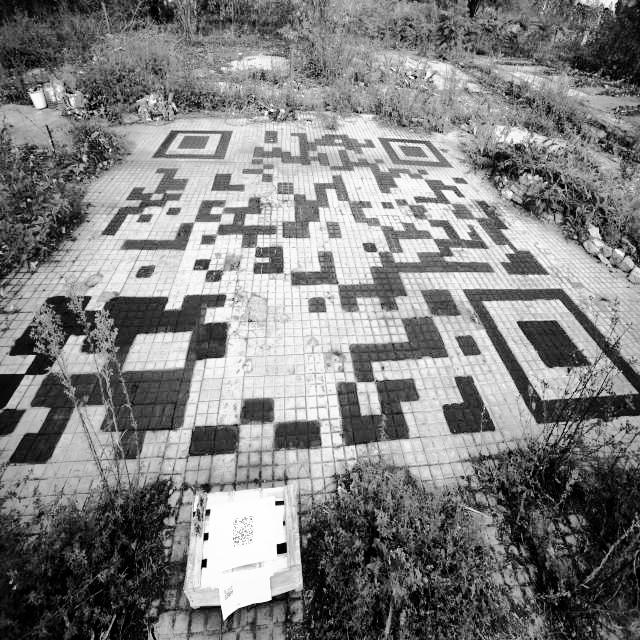qr_code: (0, 130, 640, 463), (233, 516, 254, 548), (224, 585, 233, 601)
